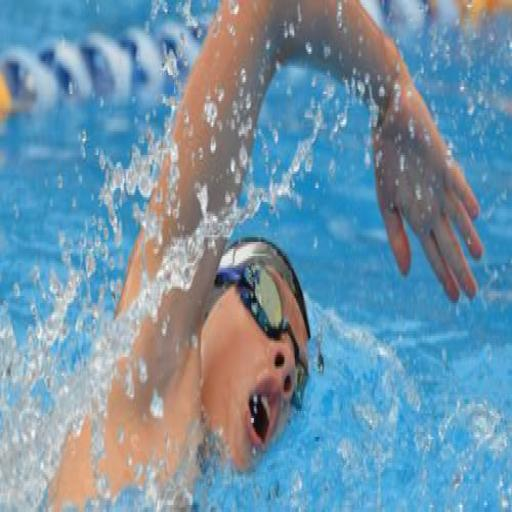swimming: (40, 0, 484, 510)
